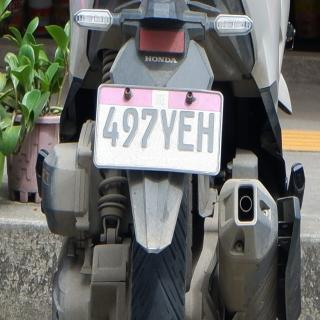license: (95, 85, 224, 177)
